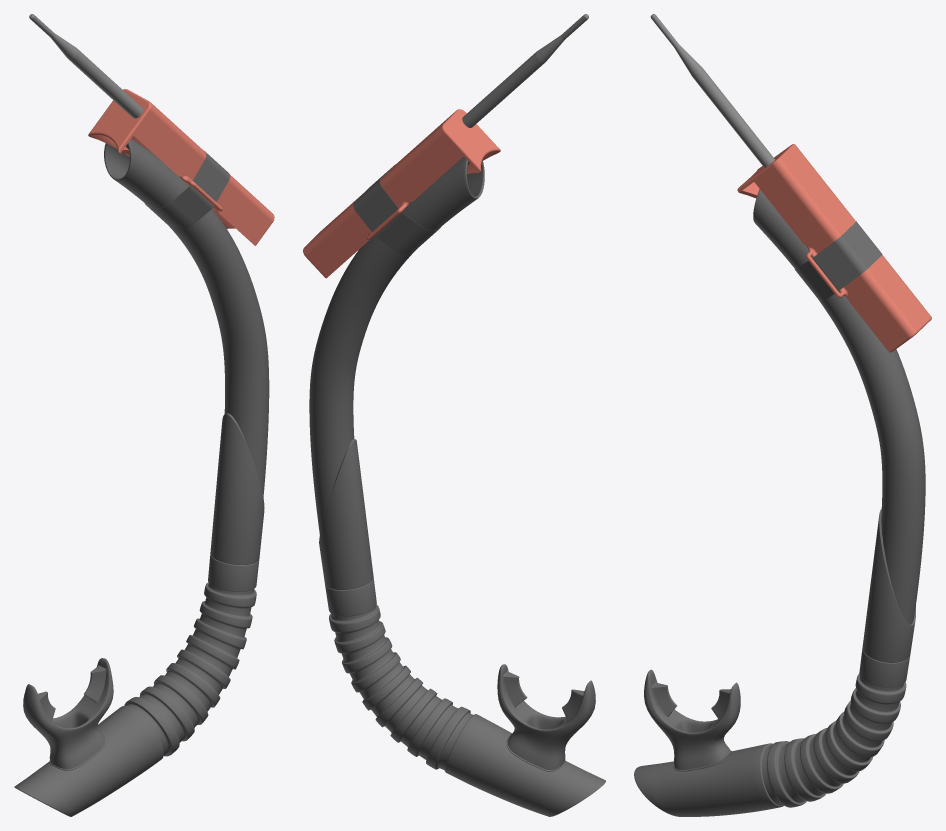
The model's file is snorkel1.glb.
The picture shows the model from 3 angles, left to right: view 1: azimuth 30°, elevation 25°; view 2: azimuth 150°, elevation 25°; view 3: azimuth 330°, elevation 25°; orthographic projection.
Visible parts, largest first — view 1: MeshBody1, Body1.010, Body2.002, Body1.011; view 2: MeshBody1, Body1.010, Body2.002, Body1.011; view 3: MeshBody1, Body1.010, Body2.002, Body1.011.
Part boxes in pixels (x1,y1,x2,y2): MeshBody1: (14, 138, 269, 816); Body1.010: (88, 89, 274, 245); Body2.002: (145, 151, 230, 228); Body1.011: (29, 14, 142, 118); MeshBody1: (309, 156, 605, 816); Body1.010: (303, 109, 500, 278); Body2.002: (353, 164, 440, 254); Body1.011: (462, 14, 588, 127); MeshBody1: (634, 189, 925, 816); Body1.010: (737, 144, 931, 352); Body2.002: (794, 221, 882, 302); Body1.011: (650, 14, 775, 167).
Size of the model in its own units: 0.1371 by 0.3927 by 0.0472.
